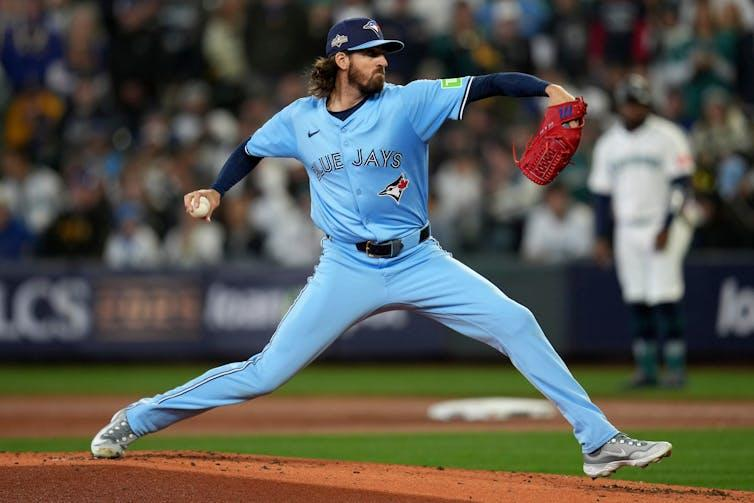baseball: (185, 195, 214, 218)
